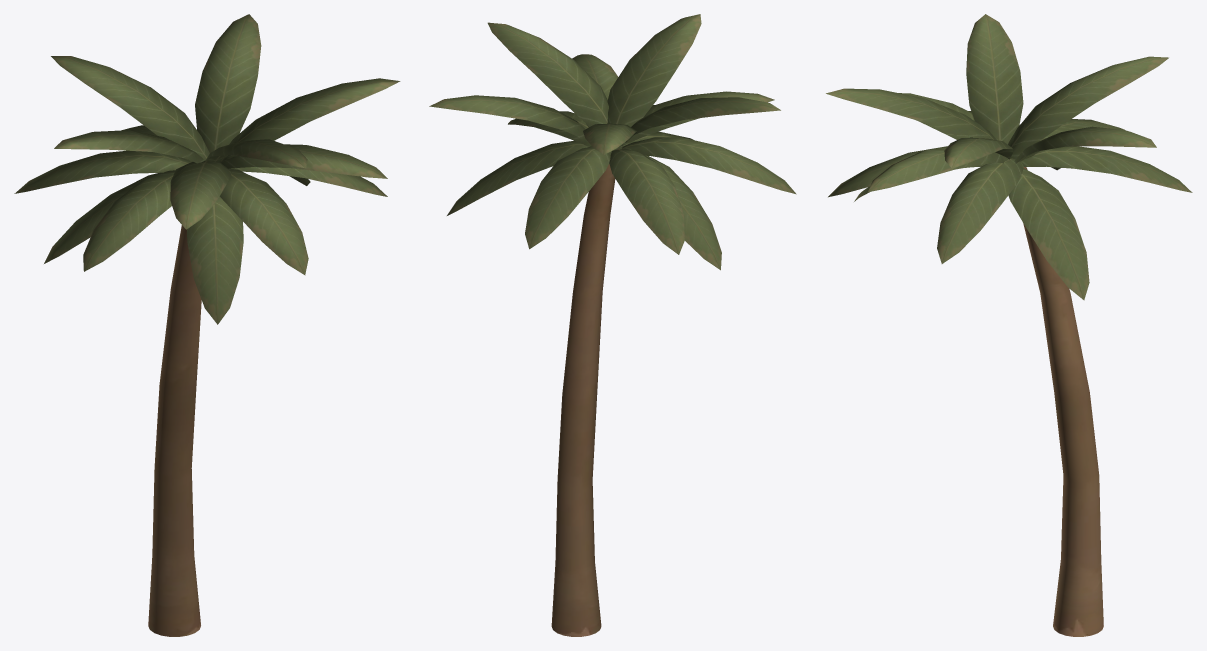
3 views of the same model, side by side, from view 1: azimuth 30°, elevation 25°; view 2: azimuth 150°, elevation 25°; view 3: azimuth 270°, elevation 25° (orthographic). The views are drawn at different scales.
Visible parts, largest first — view 1: body0_model0_lod0_mesh0; view 2: body0_model0_lod0_mesh0; view 3: body0_model0_lod0_mesh0.
Boxes of the visible parts, left/top/right/bottom form: body0_model0_lod0_mesh0: left=14, top=14, right=400, bottom=636; body0_model0_lod0_mesh0: left=429, top=14, right=796, bottom=636; body0_model0_lod0_mesh0: left=826, top=14, right=1192, bottom=636.
Size of the model in its own units: 184 by 296 by 184.
Materials: 1 (1 with a texture image).
